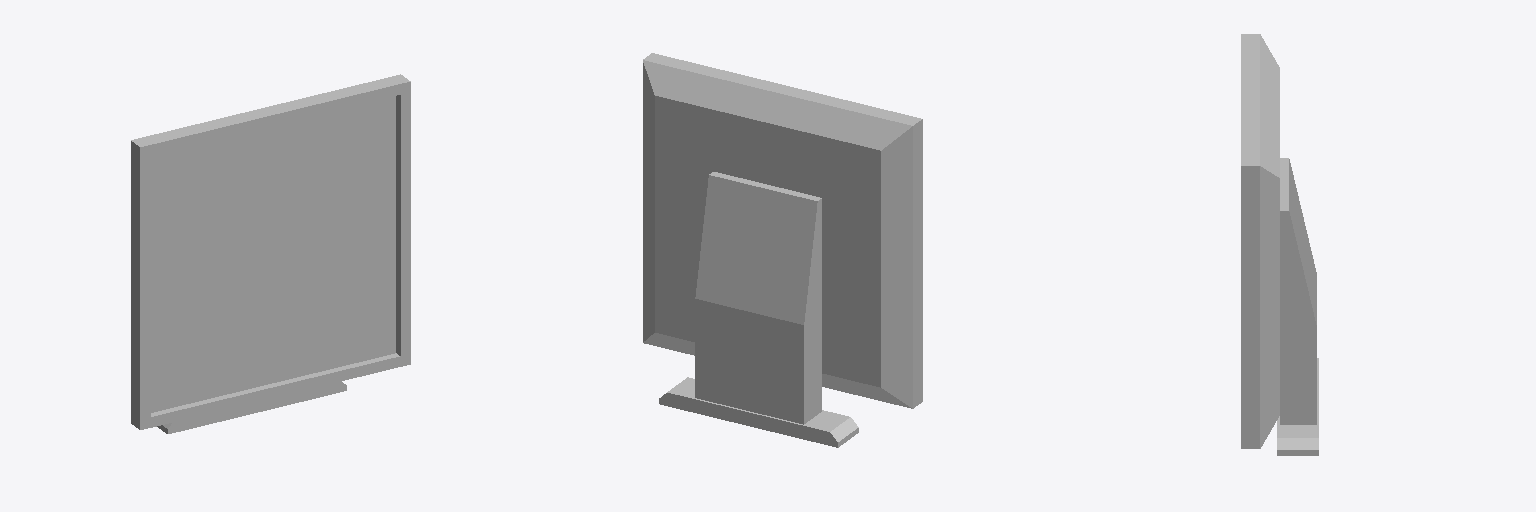
The model's file is Monitor2.obj.
The picture shows the model from 3 angles: view 1: azimuth 30°, elevation 25°; view 2: azimuth 150°, elevation 25°; view 3: azimuth 270°, elevation 25°; orthographic projection.
Visible parts, largest first — view 1: Cube.001_Cube.002, Cube_Cube.001; view 2: Cube_Cube.001; view 3: Cube_Cube.001.
Part boxes in pixels (left/top/right/bottom): Cube.001_Cube.002: left=151, top=96, right=395, bottom=412; Cube_Cube.001: left=131, top=74, right=410, bottom=433; Cube_Cube.001: left=643, top=53, right=922, bottom=447; Cube_Cube.001: left=1241, top=34, right=1318, bottom=455.
Size of the model in its own units: 2 by 2.2 by 0.5006.